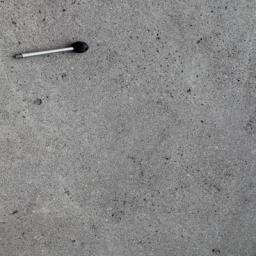FOD: (13, 40, 92, 62)
